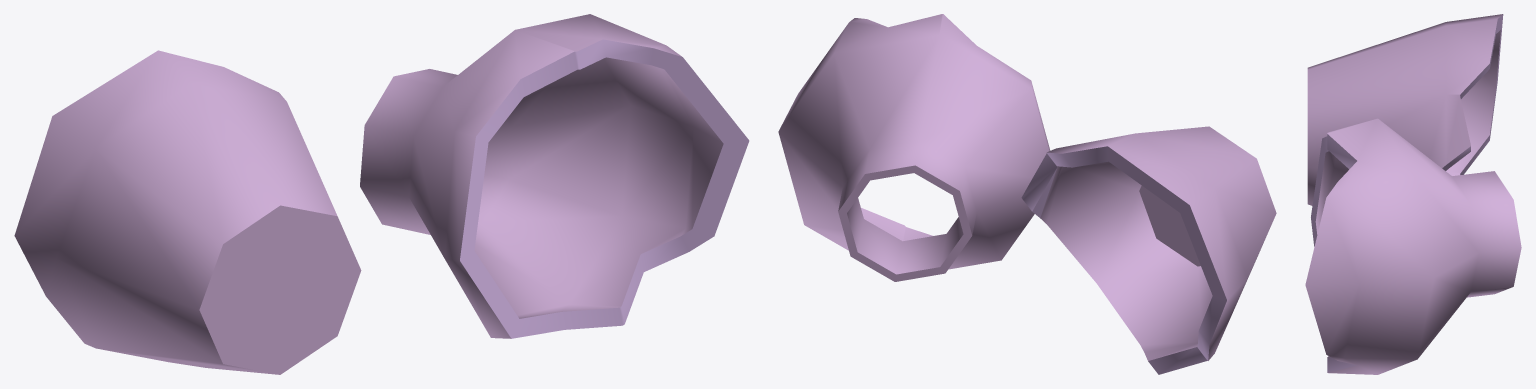
3 renders of one model, left to right at view 1: azimuth 30°, elevation 25°; view 2: azimuth 150°, elevation 25°; view 3: azimuth 270°, elevation 25°, orthographic. The views are drawn at different scales.
Parts seen in each view (by area): view 1: Object30; view 2: Object30; view 3: Object30.
Boxes of the visible parts, box(x1,y1,x2,y2) form: Object30: box(14, 14, 749, 374); Object30: box(778, 14, 1276, 374); Object30: box(1305, 14, 1521, 374).
Bounding box in the file's own units: 6843 × 3260 × 2696.
